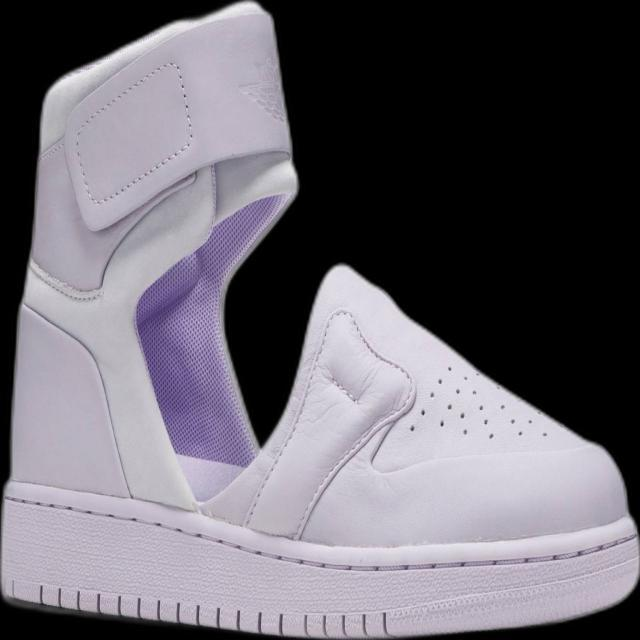J1_MateComp: (4, 0, 299, 513)
J1_ShoeLogo: (0, 0, 639, 639)
J1_StitchPattern: (7, 526, 637, 637), (1, 490, 638, 577), (241, 306, 417, 539), (311, 306, 554, 448), (9, 578, 394, 638), (64, 56, 199, 215), (415, 362, 551, 445)
